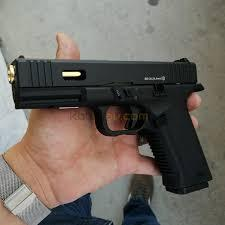weapon: (2, 47, 219, 197)
